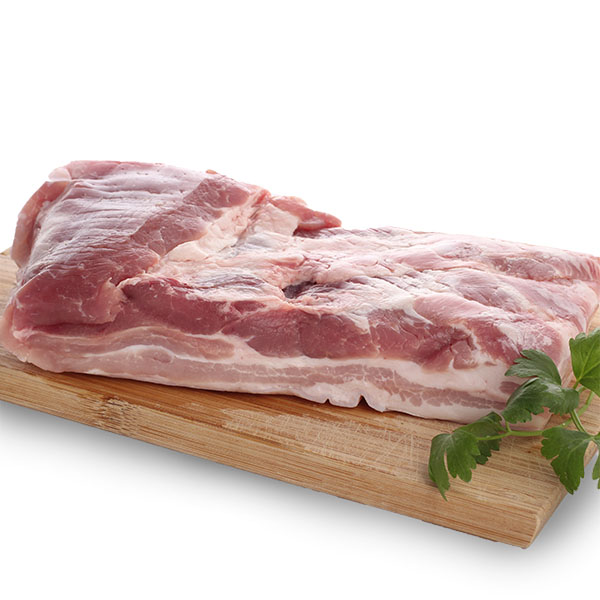bacon: (26, 159, 574, 431)
